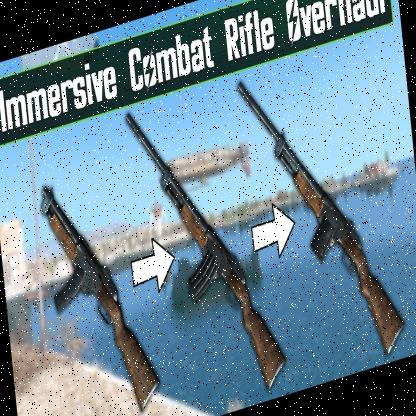rifle: (286, 77, 412, 379), (34, 162, 142, 416)
